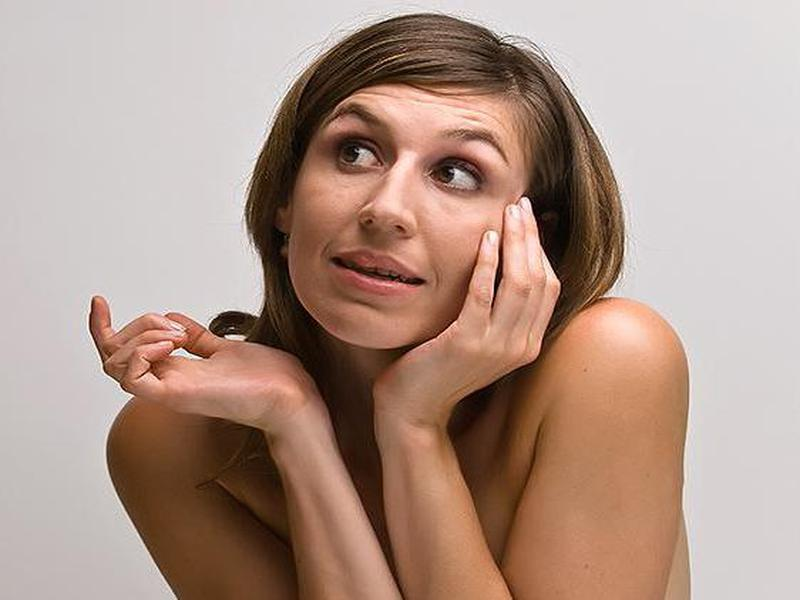person: (98, 17, 697, 600)
